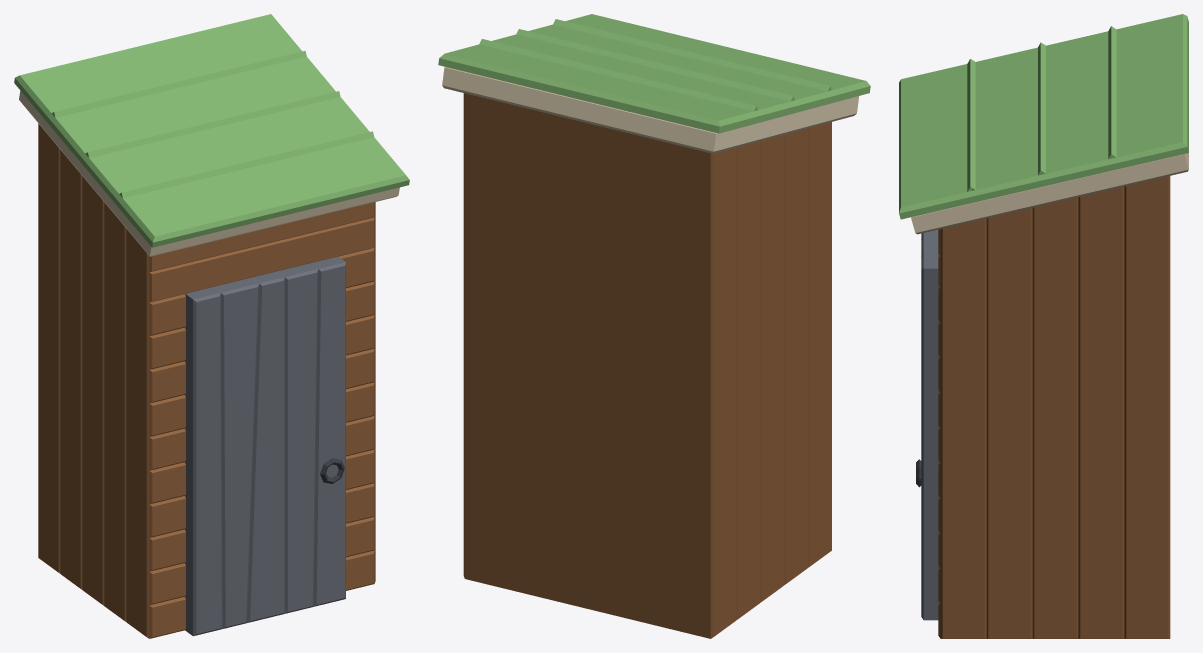
Rendered from toilet_a02.gltf.
3 renders of one model, left to right at view 1: azimuth 30°, elevation 25°; view 2: azimuth 150°, elevation 25°; view 3: azimuth 270°, elevation 25°, orthographic. The views are drawn at different scales.
Visible parts, largest first — view 1: toilet_a02_001; view 2: toilet_a02_001; view 3: toilet_a02_001.
Part boxes in pixels (x1,y1,x2,y2): toilet_a02_001: (14,14,409,638); toilet_a02_001: (438,14,870,638); toilet_a02_001: (899,14,1188,638).
Bounding box in the file's own units: 1.35 × 2.42 × 1.26.
1 material, 1 textured.
